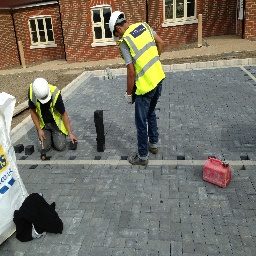helmet: (28, 75, 57, 107), (107, 9, 127, 39)
person: (108, 8, 167, 165), (26, 79, 72, 156)
vest: (116, 29, 169, 99)
